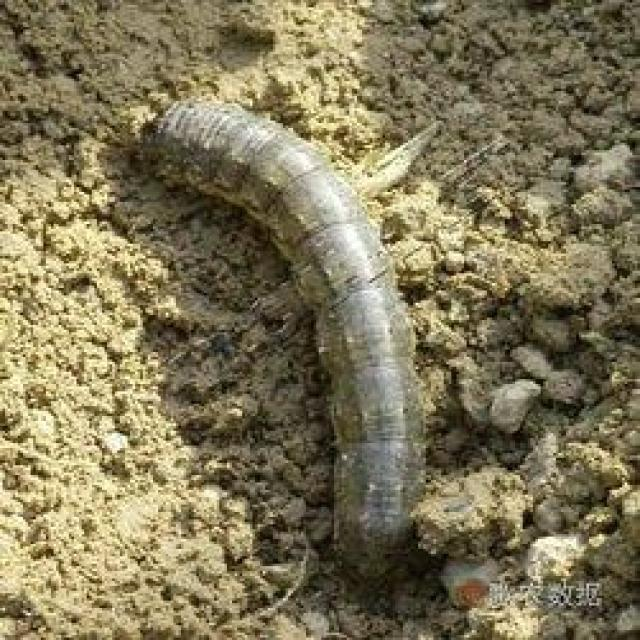black cutworm: (121, 86, 447, 576)
